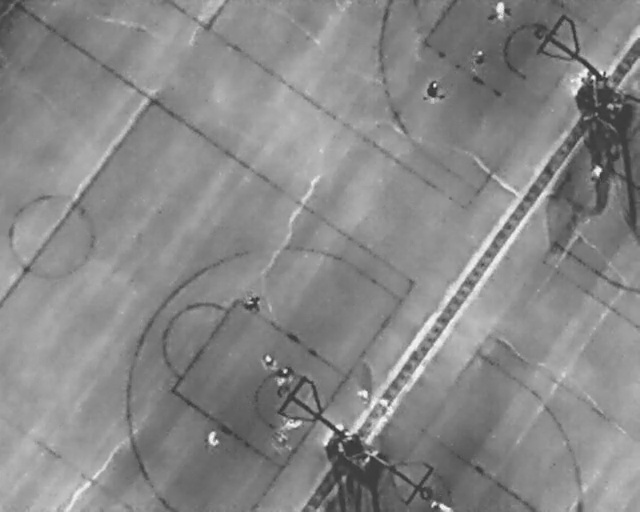Person: (586, 159, 606, 183), (277, 366, 293, 390), (426, 78, 440, 104), (260, 352, 277, 373), (245, 293, 261, 314), (206, 430, 219, 450), (474, 48, 485, 71), (496, 1, 506, 23)
